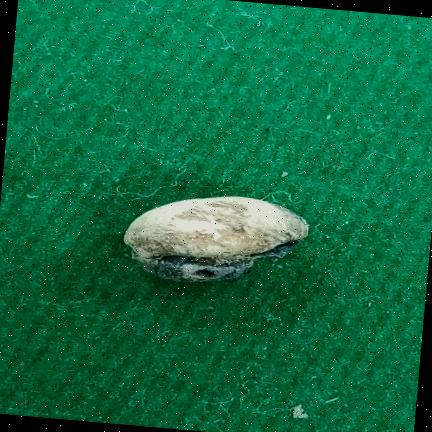partial-black: (124, 196, 309, 282)
